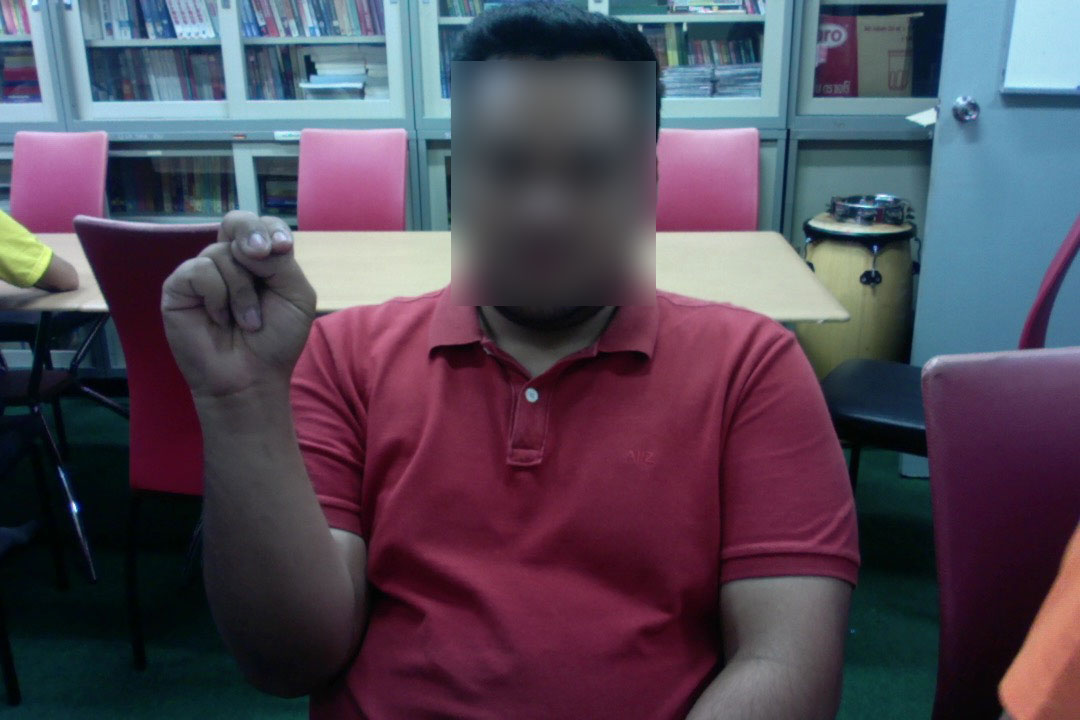nor: (156, 204, 322, 414)
